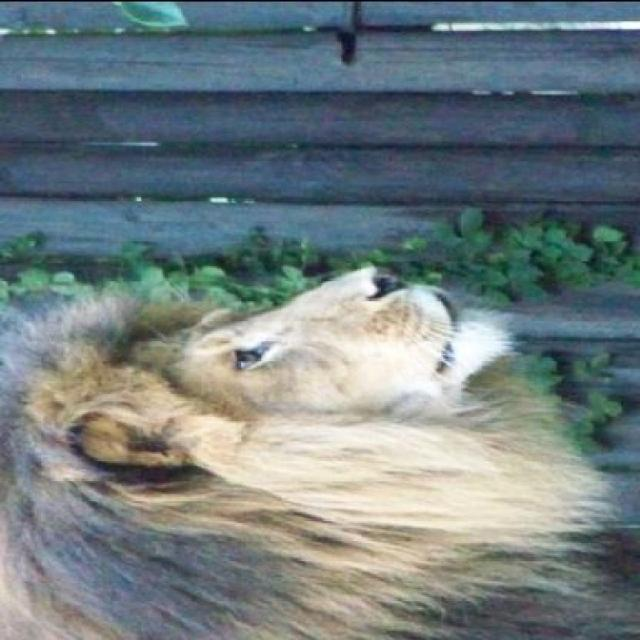Lion: (16, 264, 638, 638)
